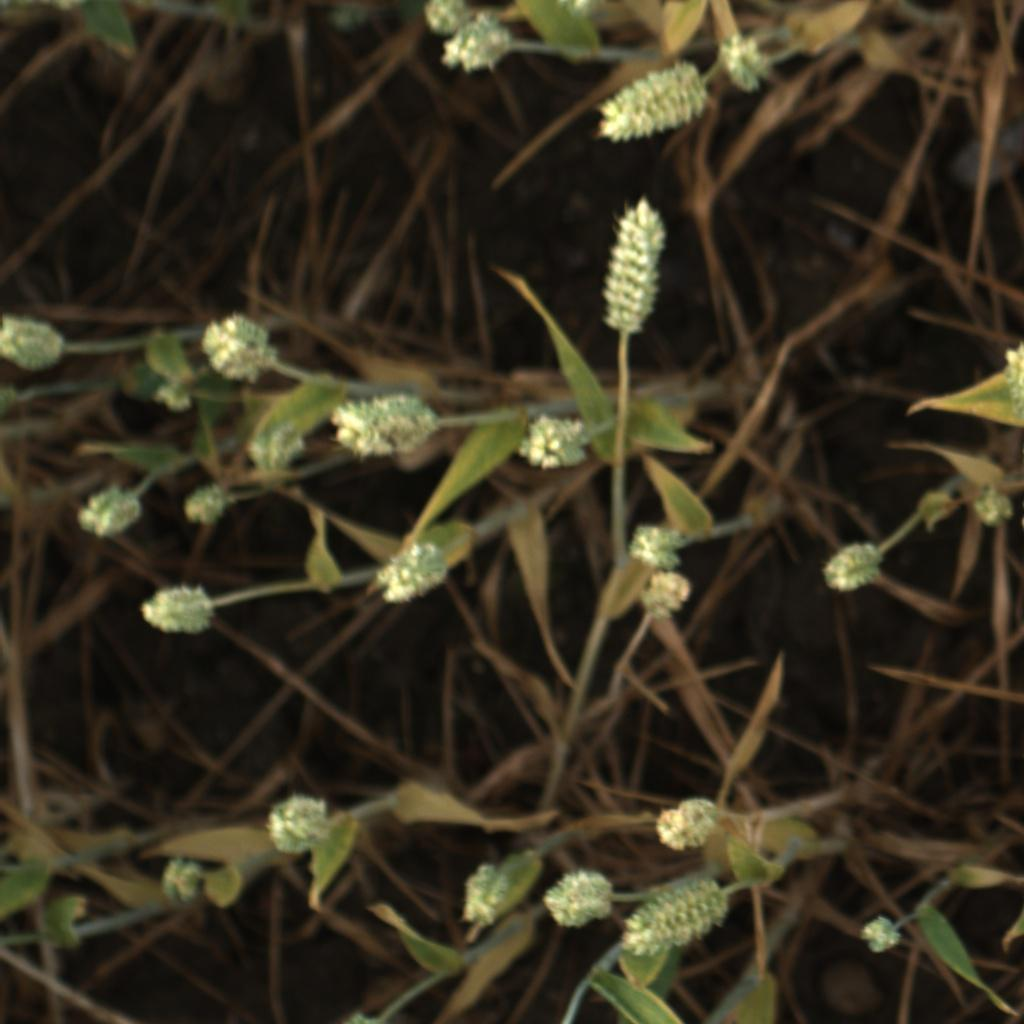0-0: (598, 195, 673, 337), (593, 56, 705, 146), (619, 874, 731, 962), (328, 389, 443, 462), (197, 307, 283, 390), (371, 538, 453, 614), (131, 578, 221, 643), (440, 11, 522, 78), (262, 789, 340, 859), (543, 863, 617, 931), (517, 409, 595, 473), (649, 792, 725, 856), (70, 480, 146, 543), (452, 864, 519, 934), (817, 533, 885, 600), (2, 306, 69, 372), (715, 24, 775, 97), (634, 568, 698, 629), (244, 426, 312, 482), (152, 853, 215, 908), (619, 520, 688, 570), (178, 478, 235, 533), (854, 908, 910, 960), (965, 479, 1017, 530), (421, 0, 473, 38)
